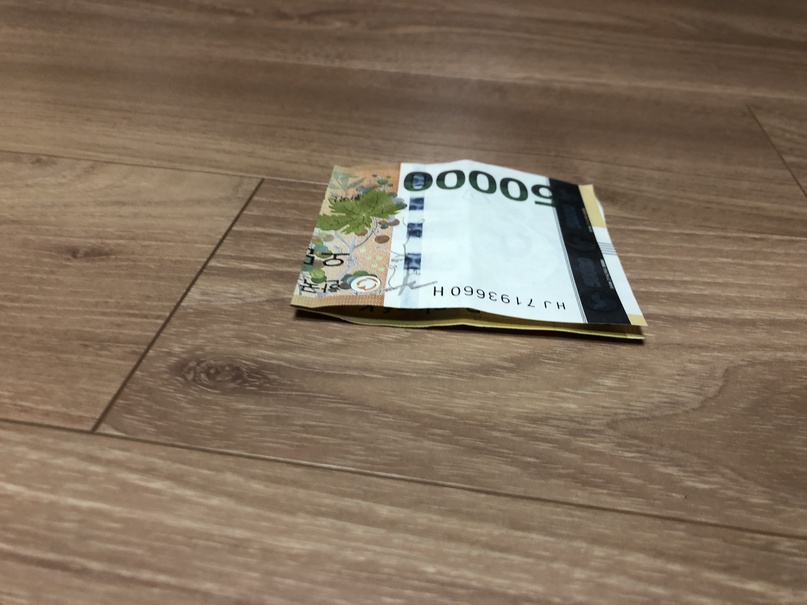50000won: (288, 158, 648, 342)
